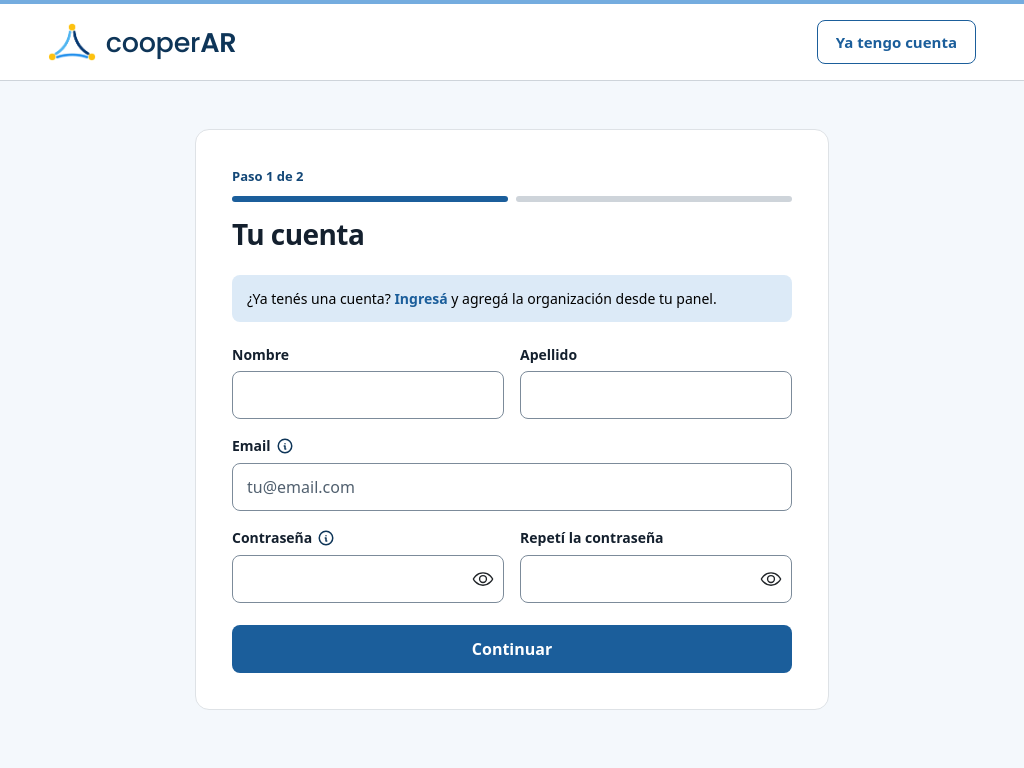
registration › explains the email and password in a tooltip on their info icon and to screen readers
# The icon is decorative for assistive technology, so it is reached next to its label.
Hover over the icon next to "Email" at (285, 446), box [275, 436, 295, 456]
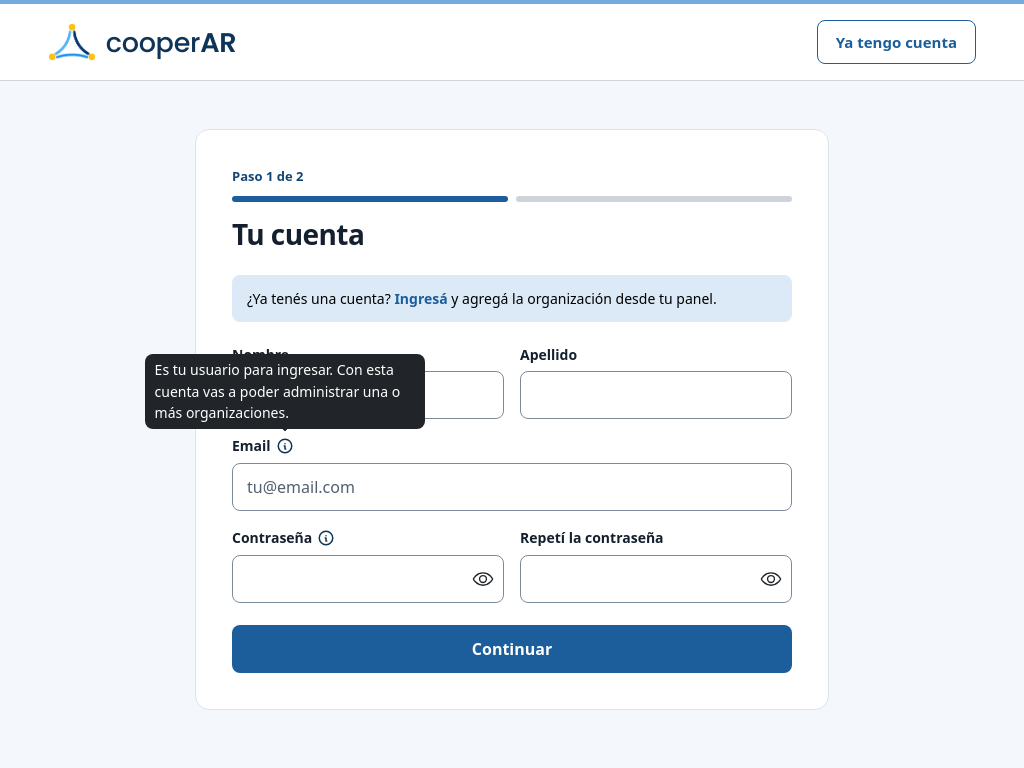
Result: the tooltip shows "Es tu usuario para ingresar. Con esta cuenta vas a poder administrar una o más organizaciones." at [155, 360, 400, 422]
